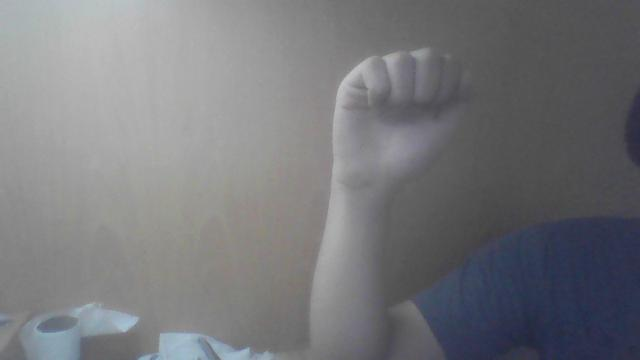forward: (331, 45, 473, 191)
